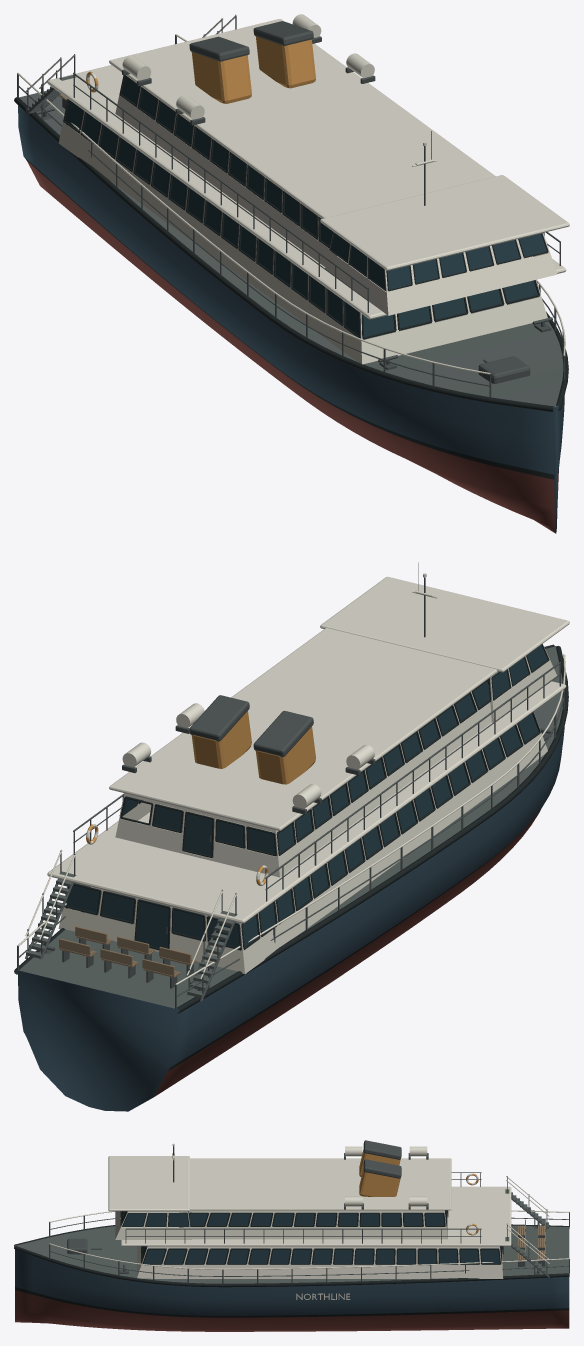
Rendered from liner.glb.
3 views of the same model, one above another, from view 1: azimuth 30°, elevation 25°; view 2: azimuth 150°, elevation 25°; view 3: azimuth 270°, elevation 25° (orthographic). The views are drawn at different scales.
Parts seen in each view (by area): view 1: SM_liner; view 2: SM_liner; view 3: SM_liner.
Part boxes in pixels (x1,y1,x2,y2): SM_liner: [14, 14, 569, 533]; SM_liner: [14, 562, 569, 1111]; SM_liner: [14, 1140, 569, 1331].
Size of the model in its own units: 10.15 by 13.19 by 36.11.
